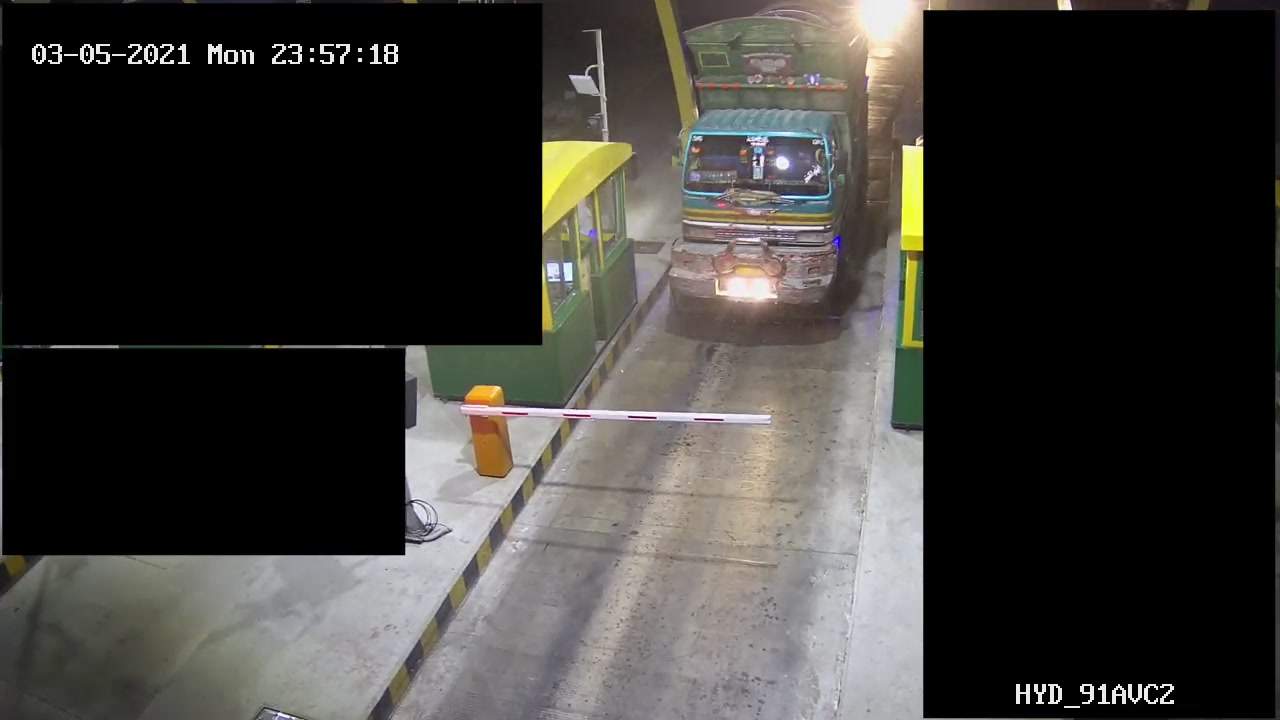F5: (658, 1, 872, 325)
